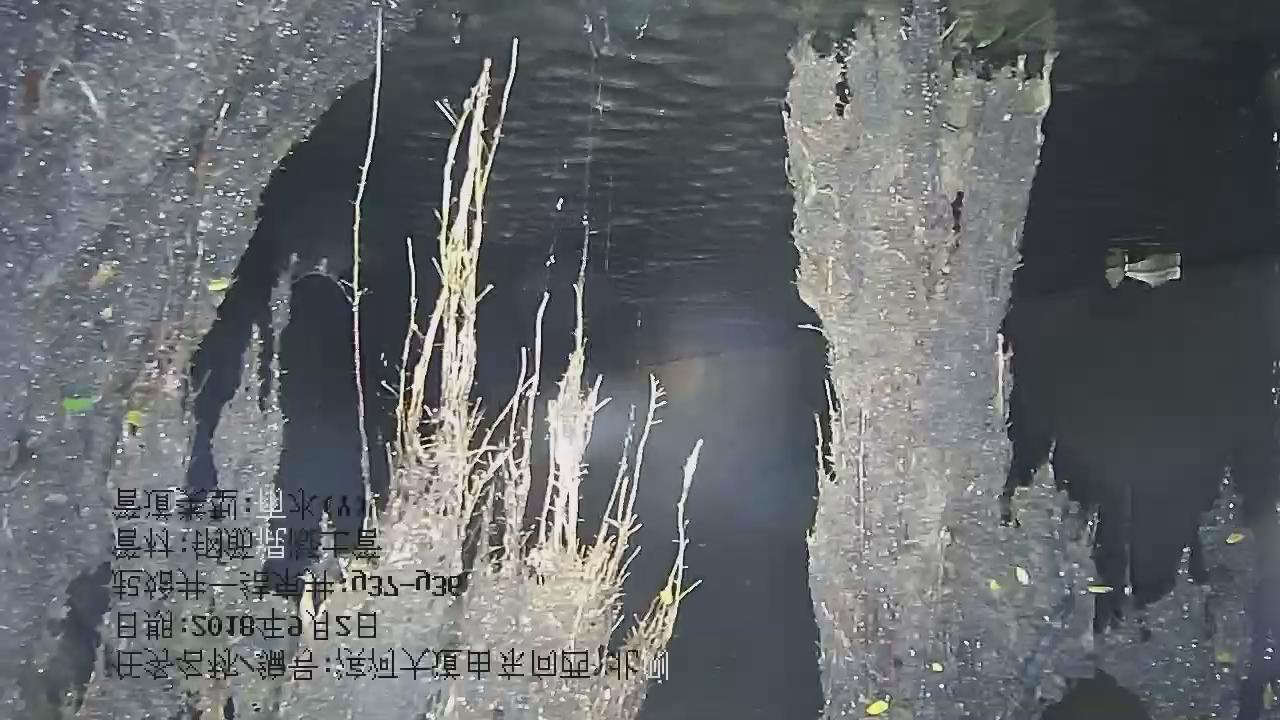SG: (0, 1, 703, 720), (782, 3, 1093, 720)
